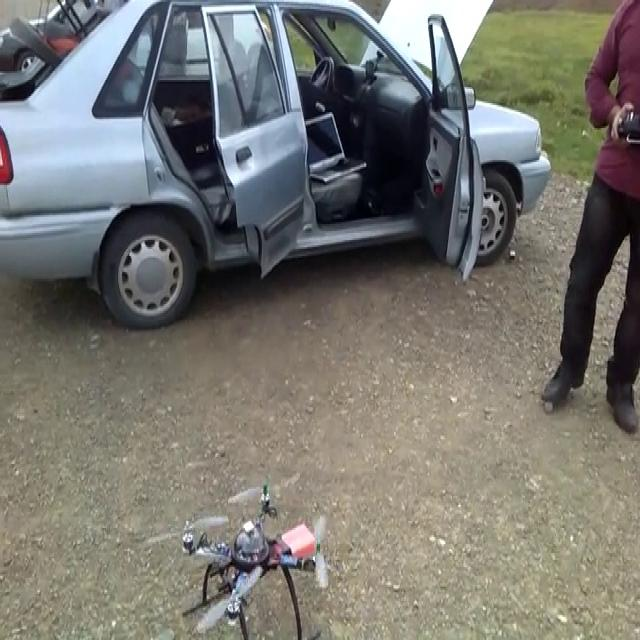drone: (171, 480, 328, 638)
